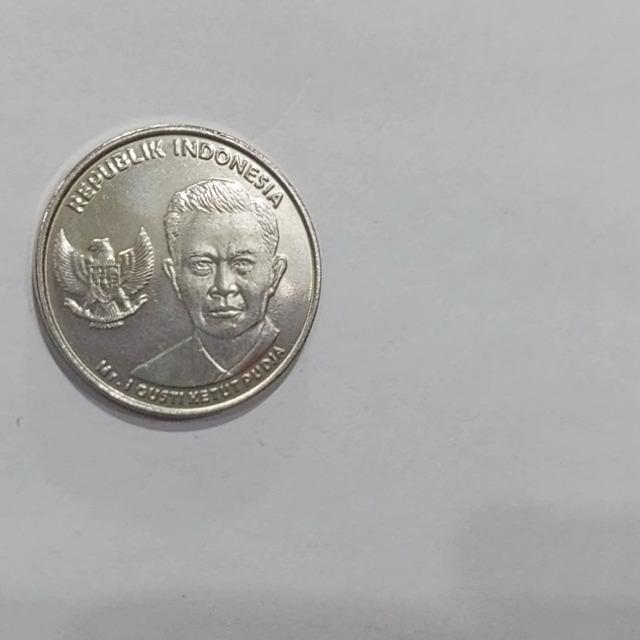Rp100: (31, 122, 323, 422), (124, 174, 291, 390), (49, 224, 156, 330)
